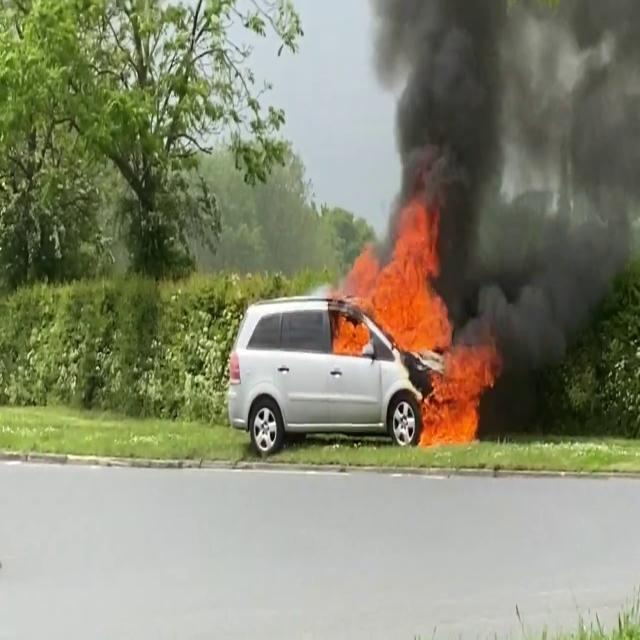Fire: (333, 202, 497, 452)
Smoke: (358, 0, 640, 248), (473, 179, 640, 434)
